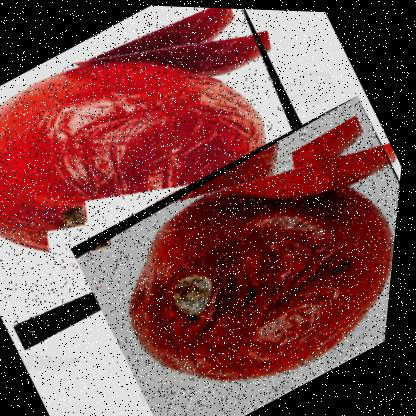tomato_rotten: (0, 0, 350, 361), (61, 84, 409, 415)
